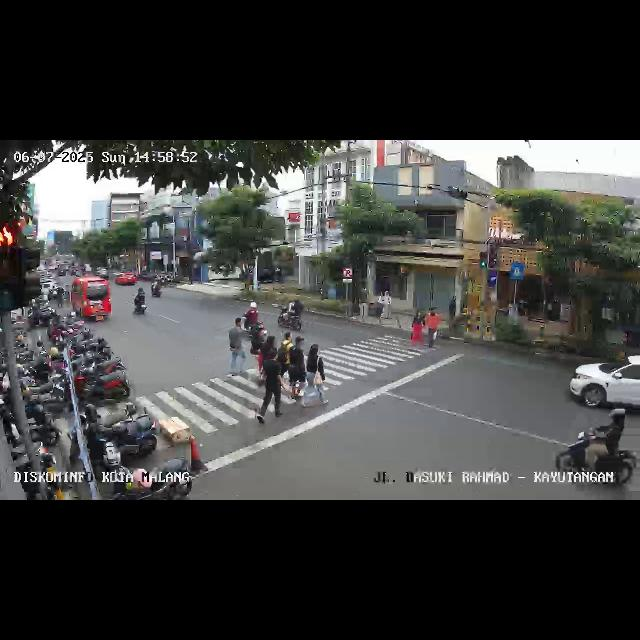car: (568, 357, 640, 418), (70, 275, 112, 323), (114, 270, 136, 288)
motorcycle: (560, 415, 636, 491), (283, 298, 305, 332), (242, 302, 264, 334), (132, 286, 148, 314), (151, 276, 163, 298)
person: (256, 335, 286, 425), (226, 316, 248, 376), (290, 336, 308, 404), (307, 342, 323, 402), (250, 330, 266, 380), (426, 306, 442, 348), (410, 310, 426, 344), (279, 332, 293, 364), (359, 288, 369, 318), (384, 290, 392, 318), (378, 290, 384, 318)
